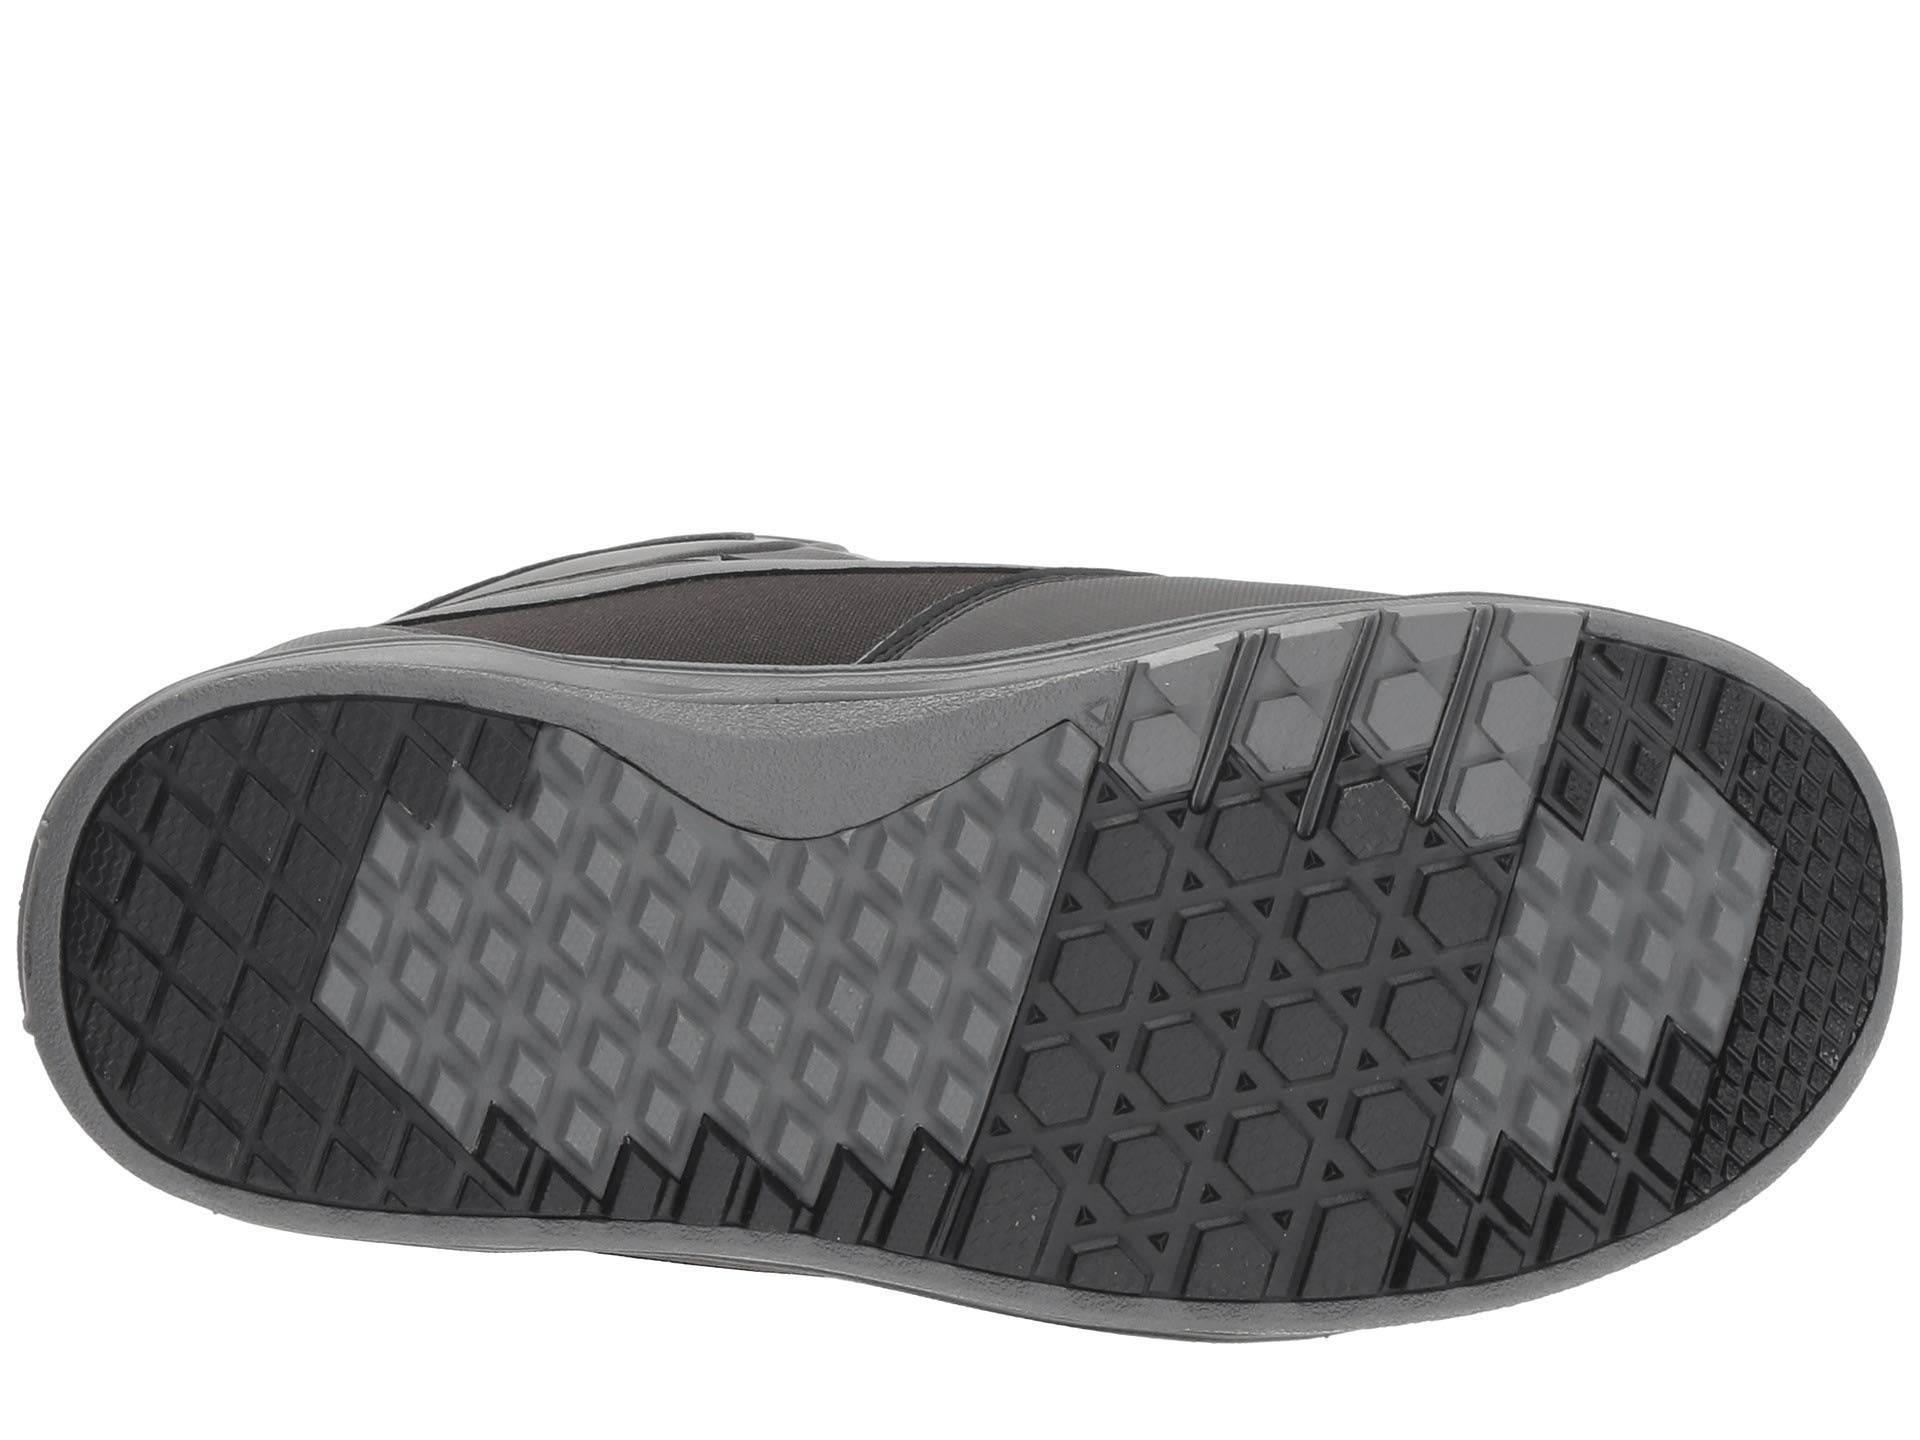polygon: (1085, 802, 1417, 1248), (1352, 643, 1465, 793), (1099, 694, 1238, 808)
quad: (441, 808, 993, 1106), (1538, 770, 1826, 1144), (86, 784, 361, 1128)
triangle: (1085, 802, 1417, 1248)
